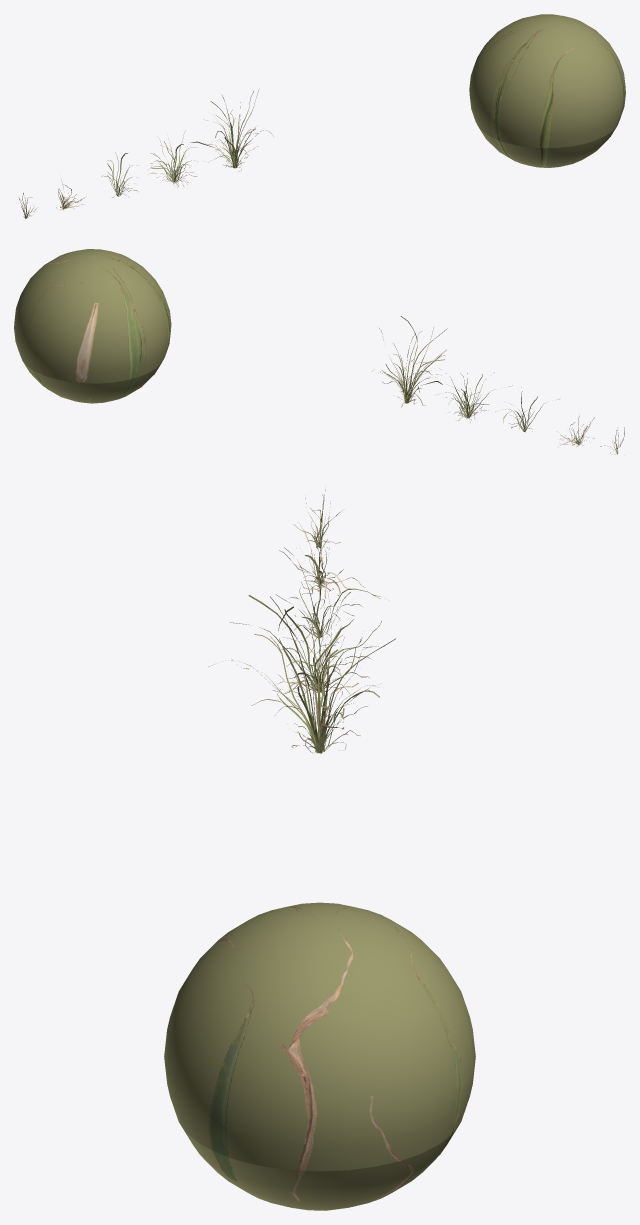
File: field_grass_b_lod0.glb
3 renders of one model, top to bottom at view 1: azimuth 30°, elevation 25°; view 2: azimuth 150°, elevation 25°; view 3: azimuth 270°, elevation 25°, orthographic. The views are drawn at different scales.
Visible parts, largest first — view 1: blades_lod0, stem_lod0; view 2: blades_lod0, stem_lod0; view 3: blades_lod0, stem_lod0.
Part boxes in pixels (box(x1,y1,x2,y2)): blades_lod0: box(18, 14, 625, 218); stem_lod0: box(479, 126, 616, 167); blades_lod0: box(14, 249, 624, 454); stem_lod0: box(23, 362, 161, 403); blades_lod0: box(164, 486, 475, 1171); stem_lod0: box(180, 1124, 459, 1210).
Bounding box in the file's own units: 3.19 × 0.7534 × 0.7176.
1 material, 1 textured.
